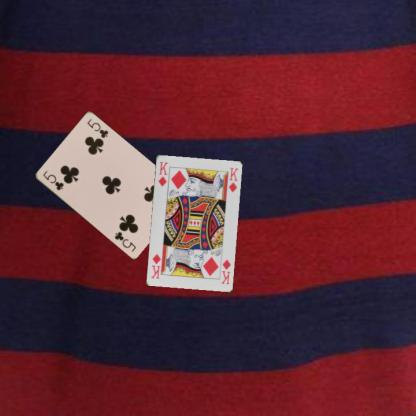5c: (40, 168, 65, 192)
Kd: (218, 256, 232, 286), (156, 159, 170, 188)
